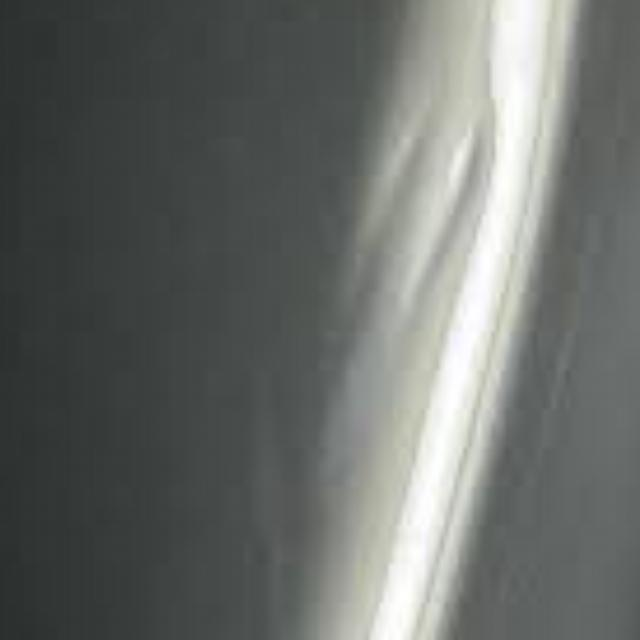dents: (414, 92, 512, 395), (326, 120, 416, 404)
